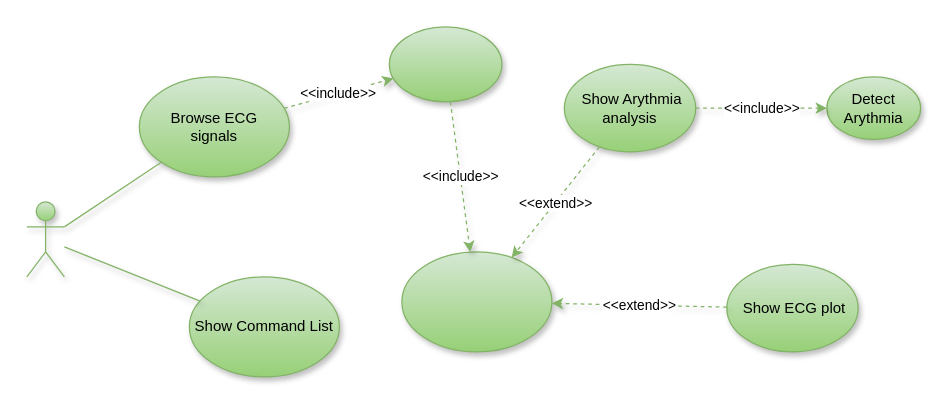
This 950x408 diagram has some shape labels left out. The shapes that lost their labels are listed below. From the top down, each one's centre as x and y in pixels, then its label:
At (446,66): "Find ECG signal".
At (46,241): "user".
At (477,303): "View ECG signal".
